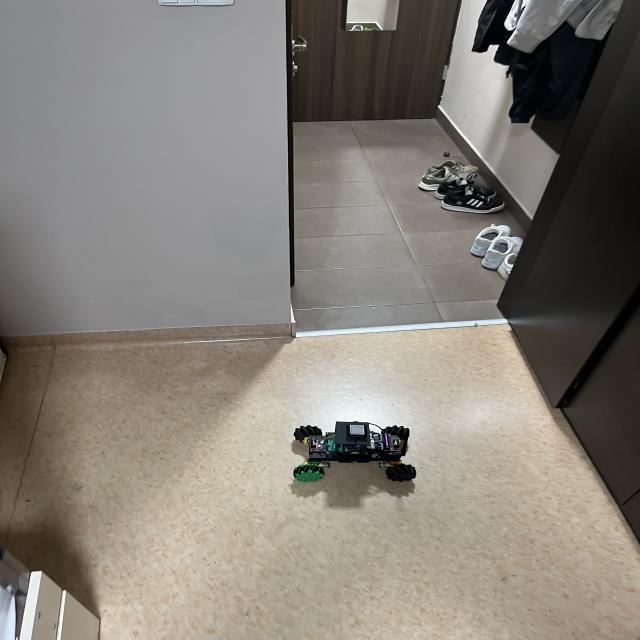robot: (293, 422, 416, 481)
